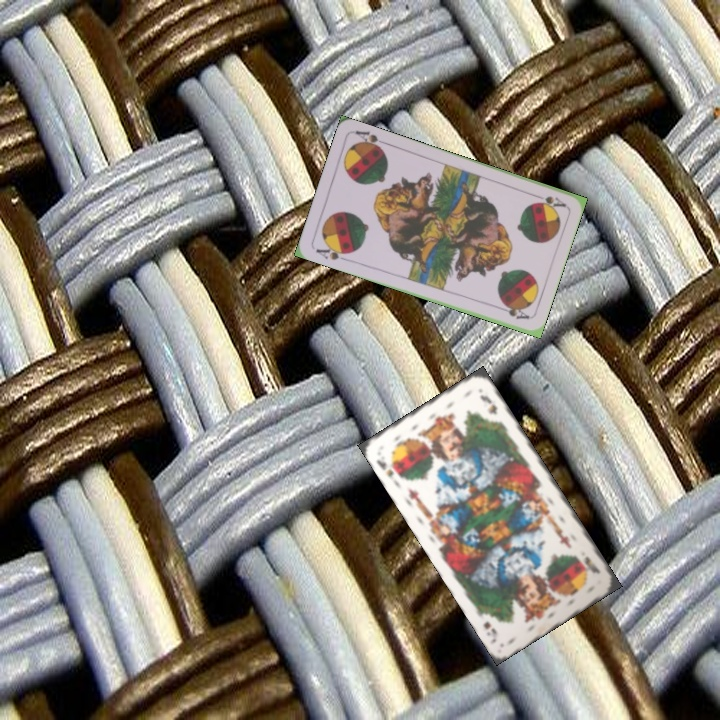SA: (312, 240, 353, 264), (529, 190, 568, 211)
SK: (372, 456, 405, 486), (580, 552, 603, 576)
